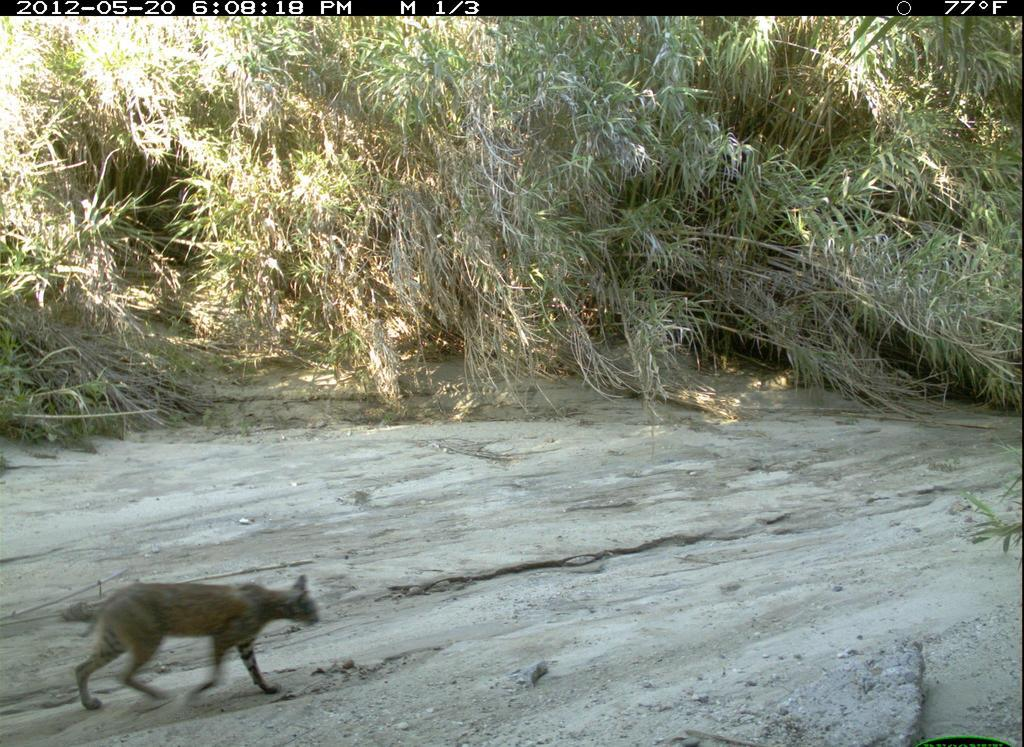bobcat: (61, 568, 331, 715)
